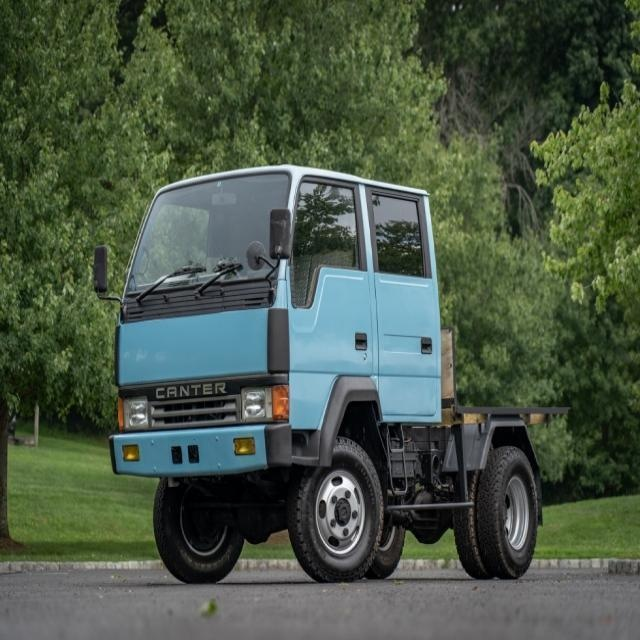Truck: (90, 163, 540, 582)
